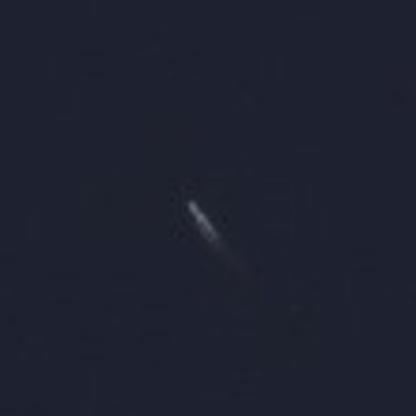ship: (179, 196, 228, 245)
